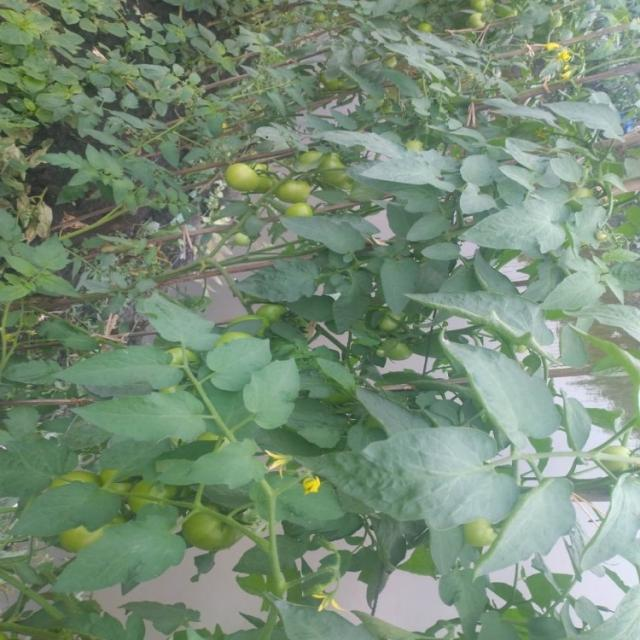tomato: (180, 507, 246, 554), (225, 159, 273, 203), (128, 480, 178, 509), (310, 162, 353, 195), (271, 179, 314, 209), (462, 522, 496, 555), (465, 14, 492, 37), (390, 340, 412, 363)
